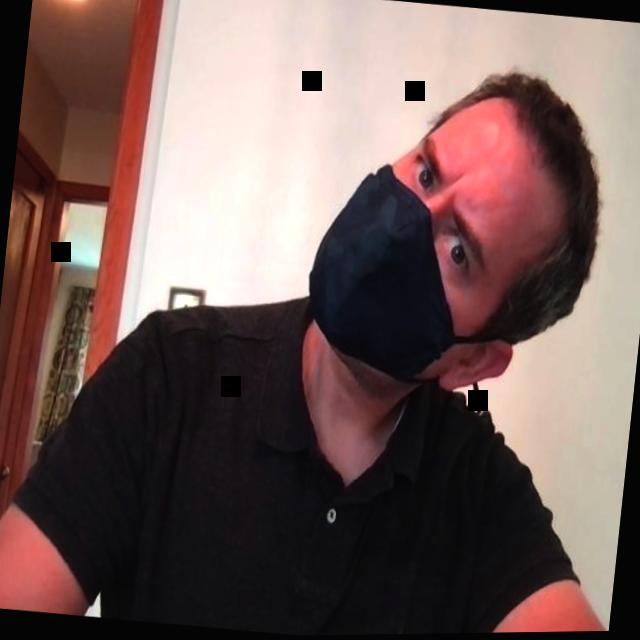Mask: (301, 54, 613, 407)
